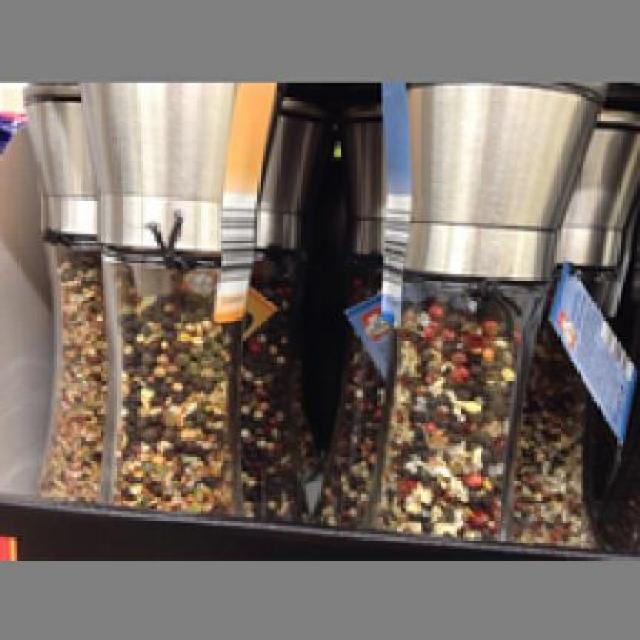Spices: (357, 80, 600, 529), (77, 80, 277, 523)
